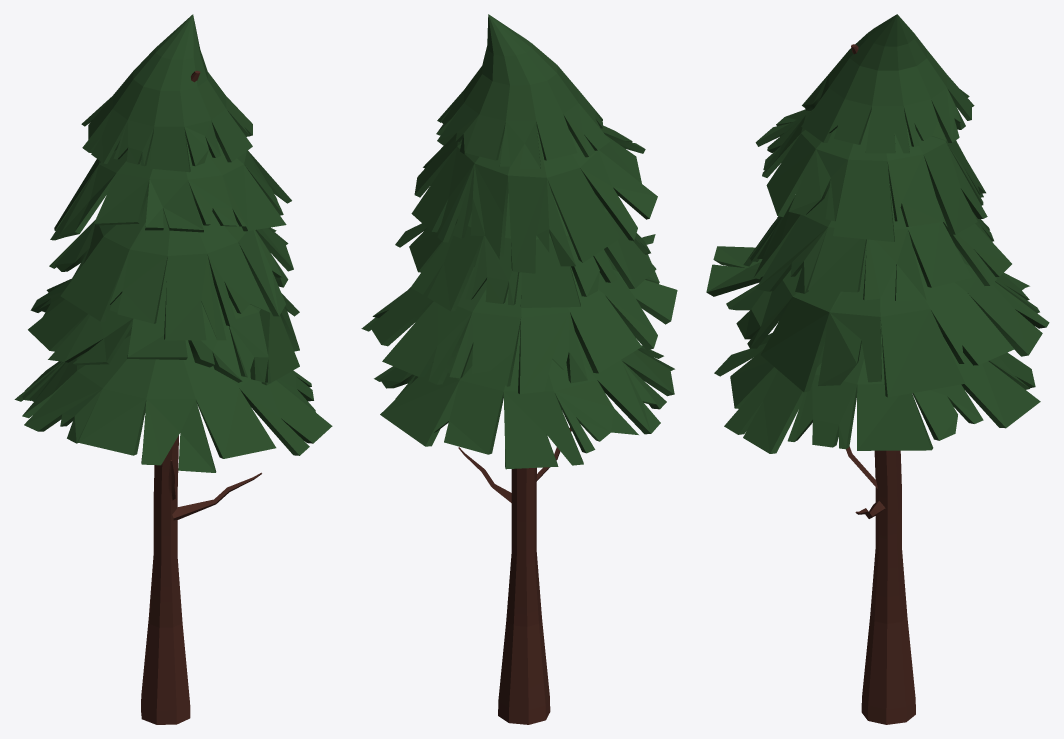
File: SM_tree_conifer_06.fbx
3 views of the same model, side by side, from view 1: azimuth 30°, elevation 25°; view 2: azimuth 150°, elevation 25°; view 3: azimuth 270°, elevation 25° (orthographic). The views are drawn at different scales.
Visible parts, largest first — view 1: Line119; view 2: Line119; view 3: Line119.
Boxes of the visible parts, x1=… form: Line119: x1=14, y1=14, x2=332, y2=724; Line119: x1=361, y1=14, x2=677, y2=724; Line119: x1=706, y1=14, x2=1049, y2=724.
Bounding box in the file's own units: 136 × 334 × 145.
